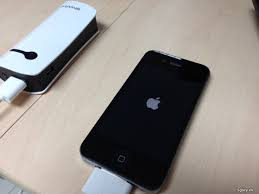iphone: (77, 46, 210, 193)
iphone4: (78, 44, 211, 191)
